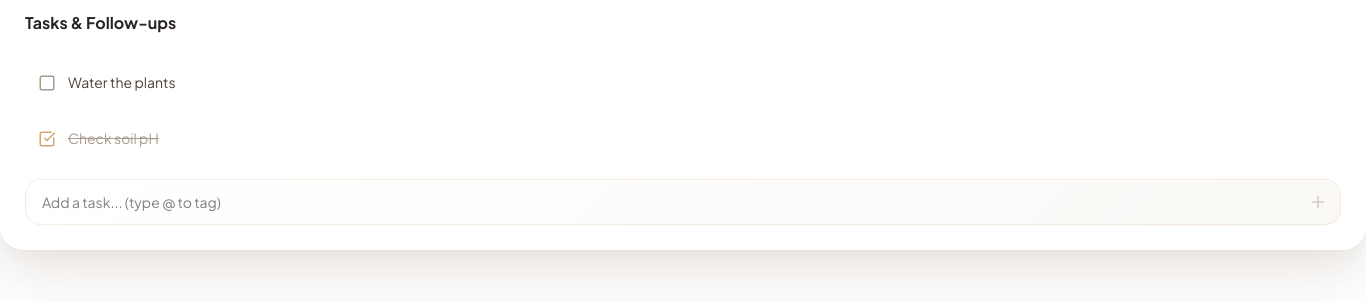
Test case: TasksWidget › shows tag menu when typing @ in input
This screenshot has width=1366, height=302.
Type "@Green" into the field with placeholder "Add a task... (type @ to tag)" at (683, 202), box left=25, top=179, right=1341, bottom=225
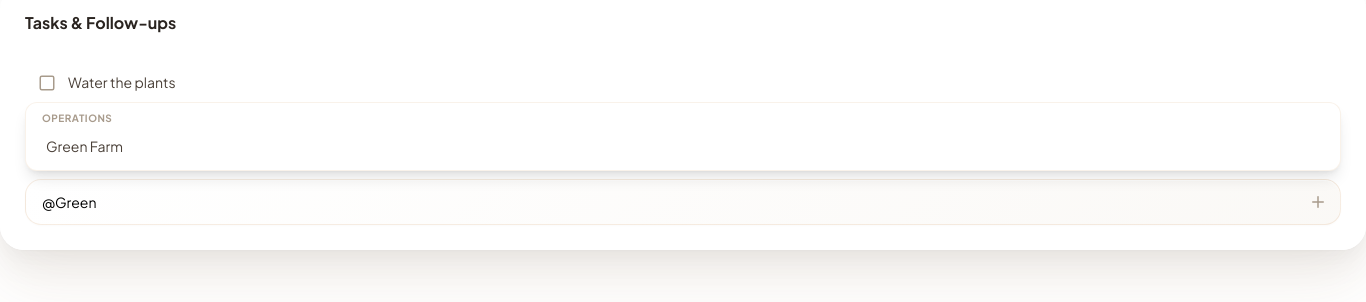
Expected: the text "Operations" is shown, left=42, top=112, right=112, bottom=124
Expected: the button "Green Farm" is shown, left=34, top=130, right=1332, bottom=162
